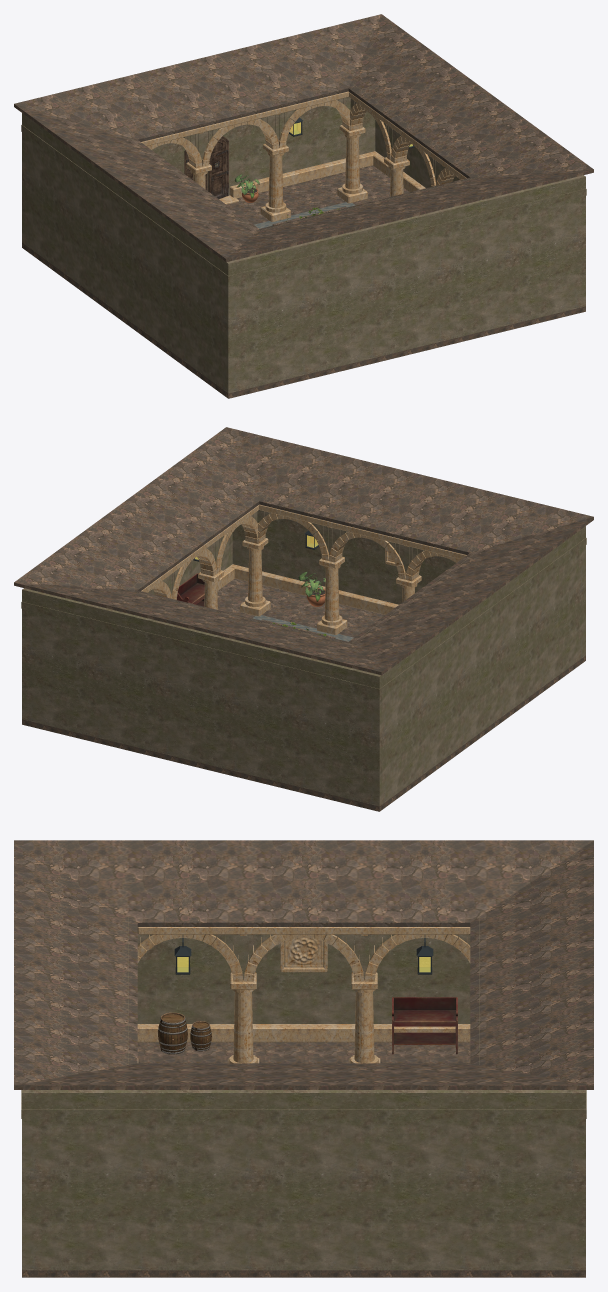
The model's file is cloister.glb.
3 renders of one model, top to bottom at view 1: azimuth 30°, elevation 25°; view 2: azimuth 150°, elevation 25°; view 3: azimuth 270°, elevation 25°, orthographic. The views are drawn at different scales.
Visible parts, largest first — view 1: Cloister architecture; view 2: Cloister architecture; view 3: Cloister architecture.
Boxes of the visible parts, <box> form: Cloister architecture: <box>14,14,593,398</box>; Cloister architecture: <box>14,427,593,811</box>; Cloister architecture: <box>14,840,593,1277</box>.
Size of the model in its own units: 14.38 by 5.35 by 14.38.
Materials: 19 (17 with a texture image).
